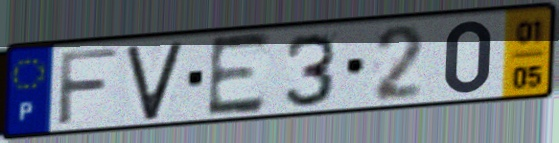0: (441, 18, 497, 97)
2: (371, 23, 426, 105)
3: (283, 30, 340, 109)
E: (204, 29, 273, 121)
F: (54, 45, 121, 128)
V: (123, 38, 187, 123)
